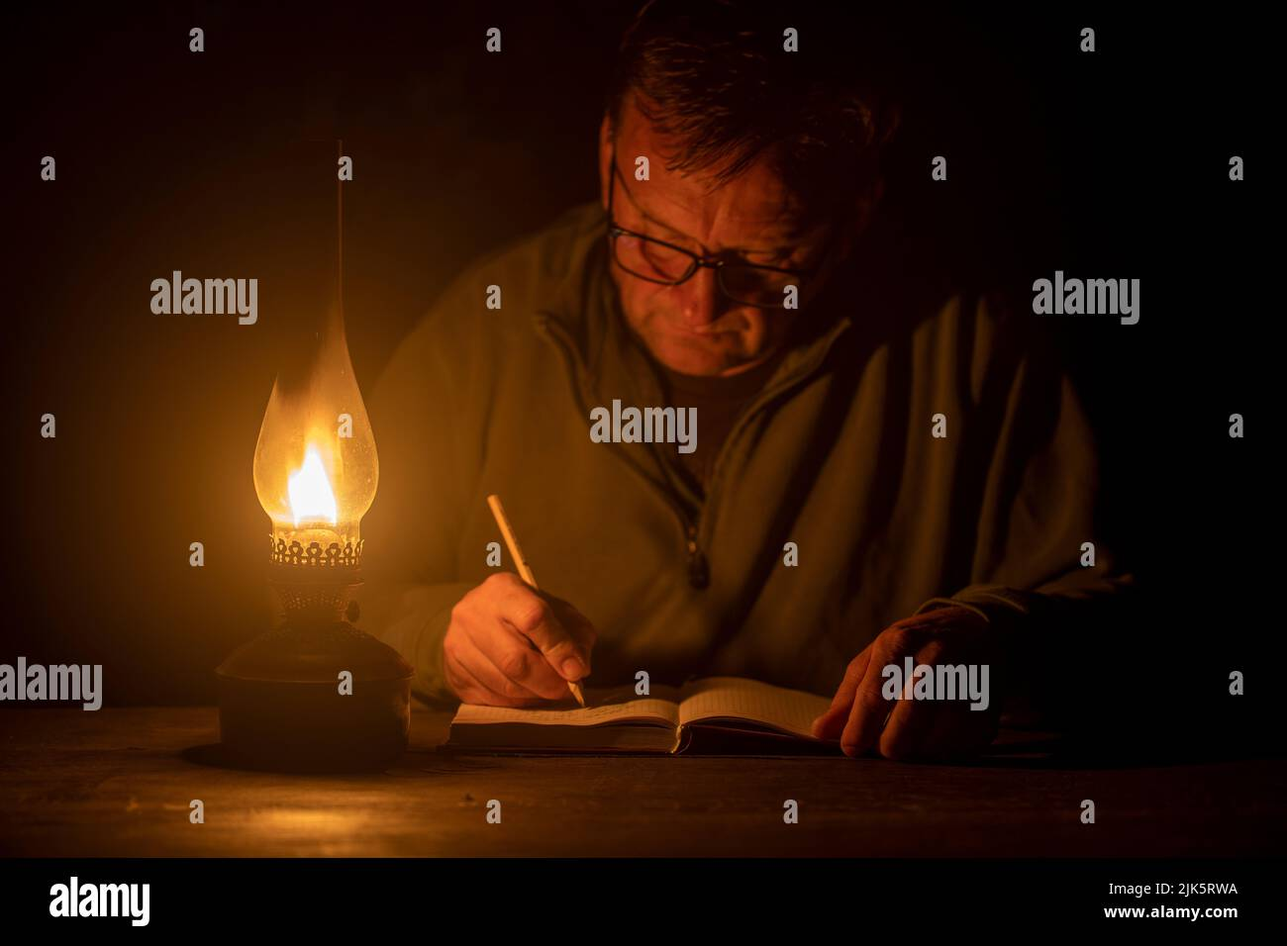Open-Flame-Hazard: (188, 167, 433, 791)
